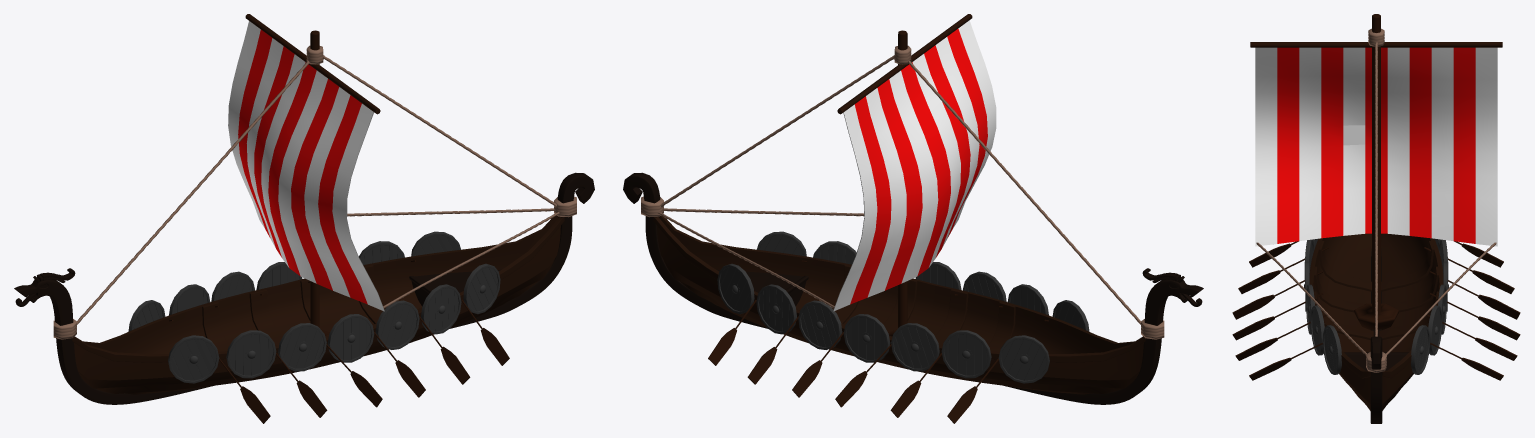
The model's file is VikingBoat.obj.
The picture shows the model from 3 angles, left to right: view 1: azimuth 30°, elevation 25°; view 2: azimuth 150°, elevation 25°; view 3: azimuth 270°, elevation 25°; orthographic projection. The views are drawn at different scales.
Visible parts, largest first — view 1: Sail_Sail, Boat_Boat, Shields_Shields, DragonHead_DragonHead, Rope_Rope, Rows_Rows, Masts_Masts, End_End; view 2: Sail_Sail, Boat_Boat, Shields_Shields, DragonHead_DragonHead, Rope_Rope, Rows_Rows, Masts_Masts, End_End; view 3: Sail_Sail, Boat_Boat, Rows_Rows, Masts_Masts, Shields_Shields, Rope_Rope, DragonHead_DragonHead, End_End.
Part boxes in pixels (<box>): Sail_Sail: <box>228,21,384,311</box>; Boat_Boat: <box>72,215,564,394</box>; Shields_Shields: <box>128,231,500,383</box>; DragonHead_DragonHead: <box>14,172,594,404</box>; Rope_Rope: <box>53,45,576,339</box>; Rows_Rows: <box>169,260,509,423</box>; Masts_Masts: <box>245,14,380,336</box>; End_End: <box>409,269,501,306</box>; Sail_Sail: <box>833,20,996,311</box>; Boat_Boat: <box>653,215,1145,394</box>; Shields_Shields: <box>717,231,1089,383</box>; DragonHead_DragonHead: <box>623,172,1203,404</box>; Rope_Rope: <box>641,45,1164,339</box>; Rows_Rows: <box>708,260,1048,423</box>; Masts_Masts: <box>837,14,972,336</box>; End_End: <box>716,269,808,306</box>; Sail_Sail: <box>1255,47,1497,246</box>; Boat_Boat: <box>1309,233,1443,410</box>; Rows_Rows: <box>1232,241,1520,380</box>; Masts_Masts: <box>1250,14,1502,329</box>; Shields_Shields: <box>1304,239,1448,374</box>; Rope_Rope: <box>1256,28,1496,372</box>; DragonHead_DragonHead: <box>1370,248,1382,423</box>; End_End: <box>1344,352,1408,370</box>.
Size of the model in its own units: 13.1 by 7.09 by 5.85.
